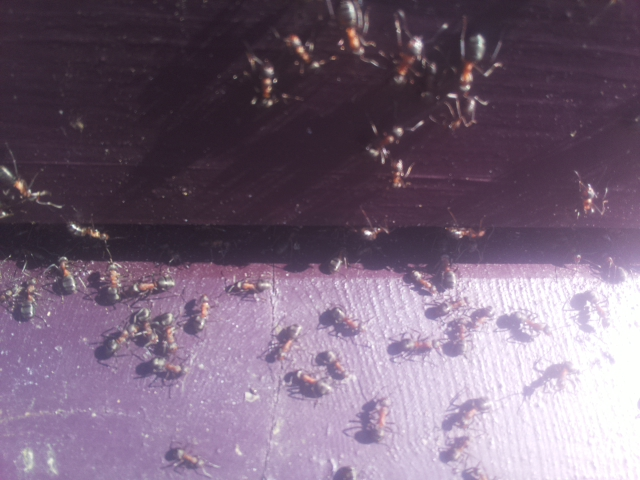ant: (327, 0, 388, 73), (385, 3, 441, 78), (360, 113, 424, 167), (238, 43, 287, 109), (451, 28, 493, 93), (0, 158, 52, 208), (278, 24, 327, 77), (265, 317, 308, 368), (97, 319, 139, 363), (324, 303, 370, 340), (159, 447, 223, 472), (315, 343, 351, 387), (219, 275, 275, 302), (60, 217, 113, 244), (573, 171, 602, 219), (290, 369, 337, 398), (366, 394, 393, 443), (127, 273, 179, 298), (434, 433, 472, 466), (15, 276, 40, 324), (441, 320, 471, 357), (406, 267, 441, 298), (147, 353, 185, 380), (192, 291, 213, 339), (443, 221, 491, 241), (56, 253, 77, 296), (355, 221, 392, 244), (106, 261, 121, 307), (163, 311, 178, 355), (390, 156, 409, 190)
